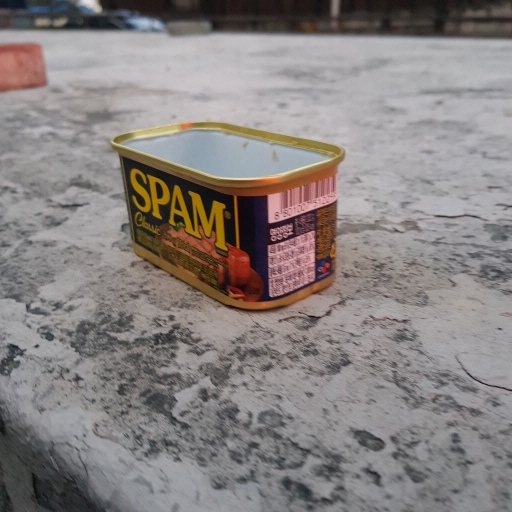Metal_2: (111, 116, 348, 311)
